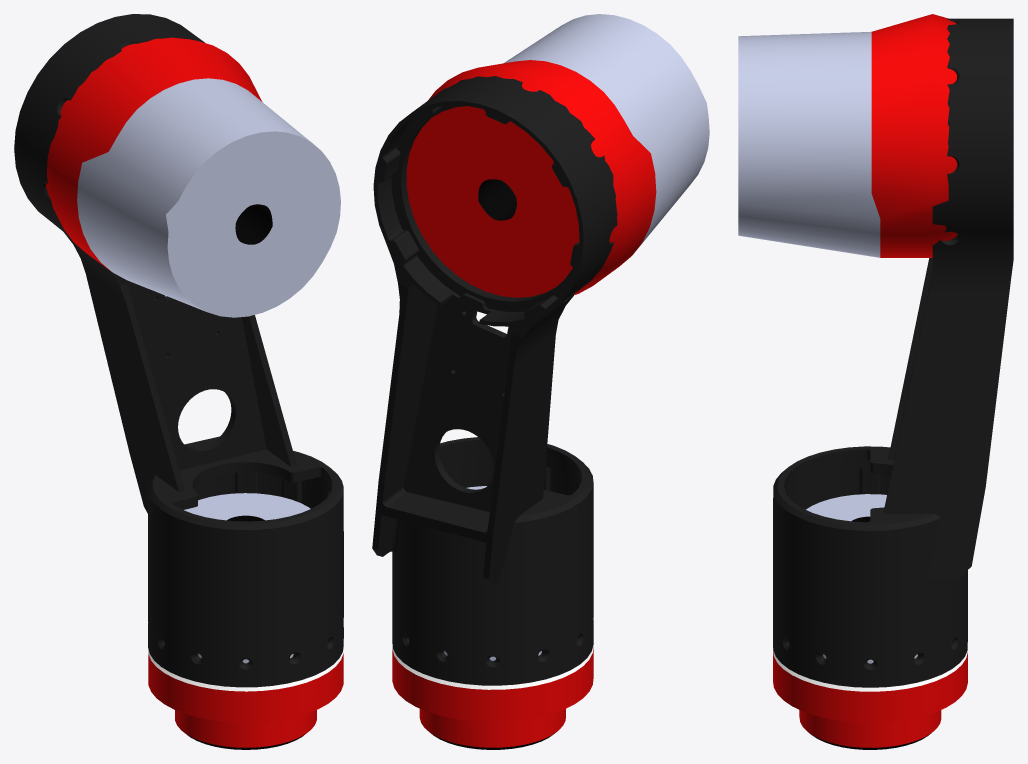
File: leftarm_link4.obj
The picture shows the model from 3 angles, left to right: view 1: azimuth 30°, elevation 25°; view 2: azimuth 150°, elevation 25°; view 3: azimuth 270°, elevation 25°; orthographic projection. The views are drawn at different scales.
Visible parts, largest first — view 1: 4ת5, object 2; view 2: 4ת5, object 2; view 3: 4ת5, object 2.
Boxes of the visible parts, box(x1,y1,x2,y2) form: 4ת5: box(14, 14, 343, 687); object 2: box(46, 37, 343, 749); 4ת5: box(372, 76, 617, 685); object 2: box(392, 14, 709, 749); 4ת5: box(773, 18, 1013, 687); object 2: box(738, 14, 967, 749).
Size of the model in its own units: 0.129 by 0.3324 by 0.124.
